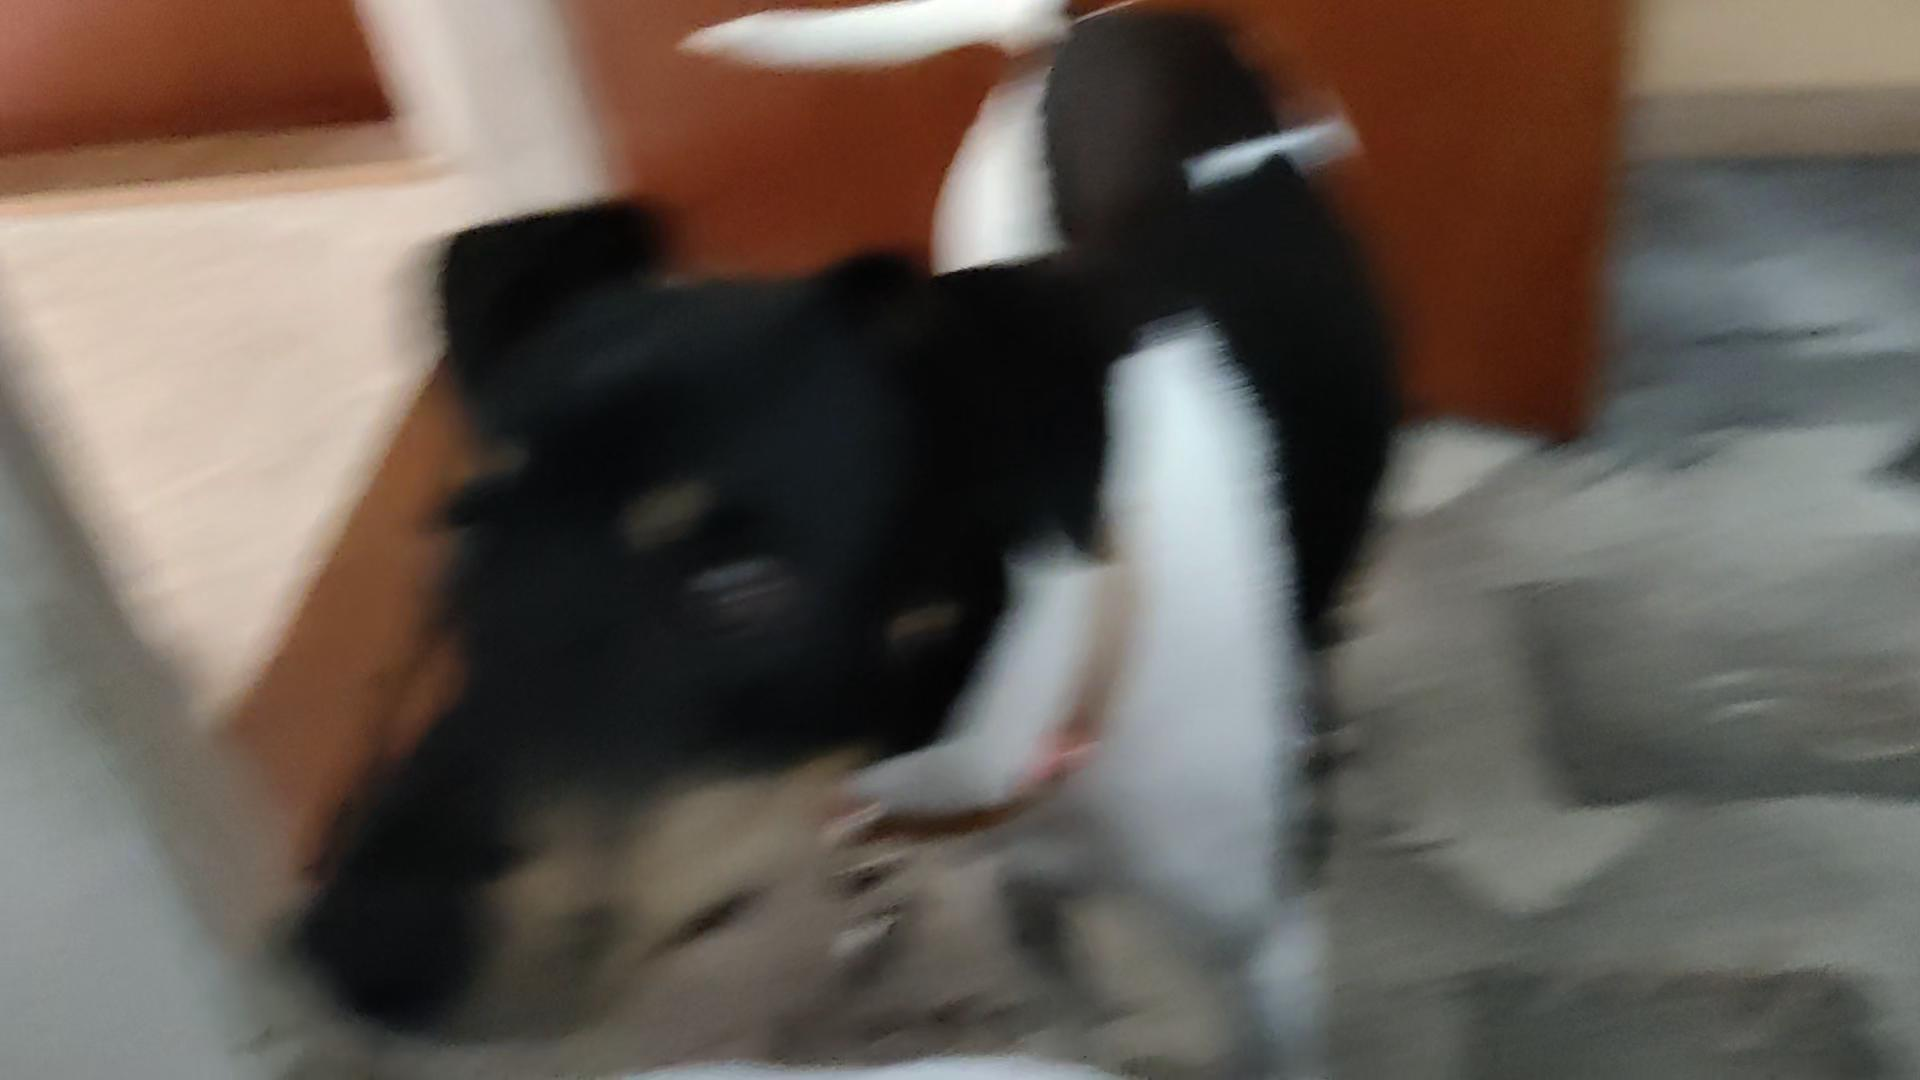Dog: (220, 0, 1460, 1080)
